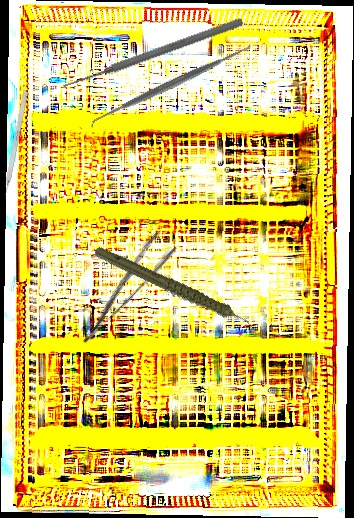Dressing Forceps: (65, 229, 179, 346)
Handpiece: (91, 216, 258, 365)
Hook Surgical: (1, 90, 29, 203)
Pusher: (59, 15, 245, 93)
Spatula Surgical: (85, 38, 256, 132)
